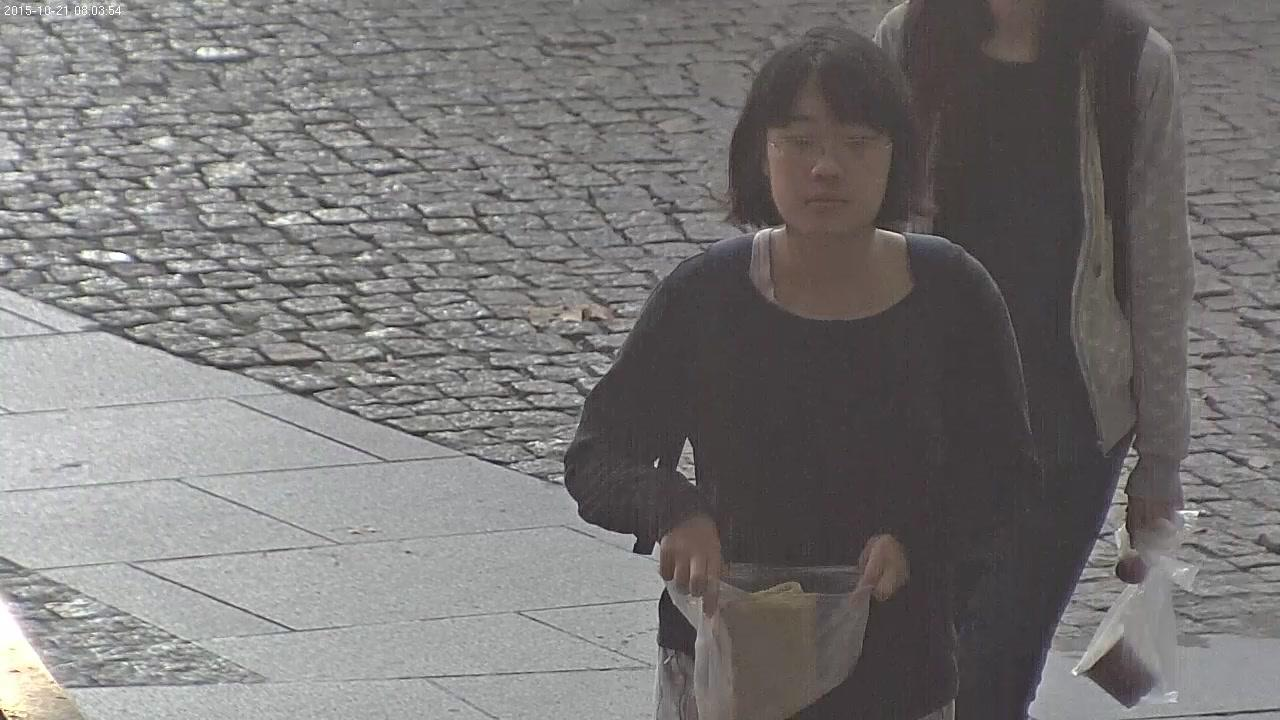person: (563, 23, 1033, 720), (873, 0, 1197, 720)
